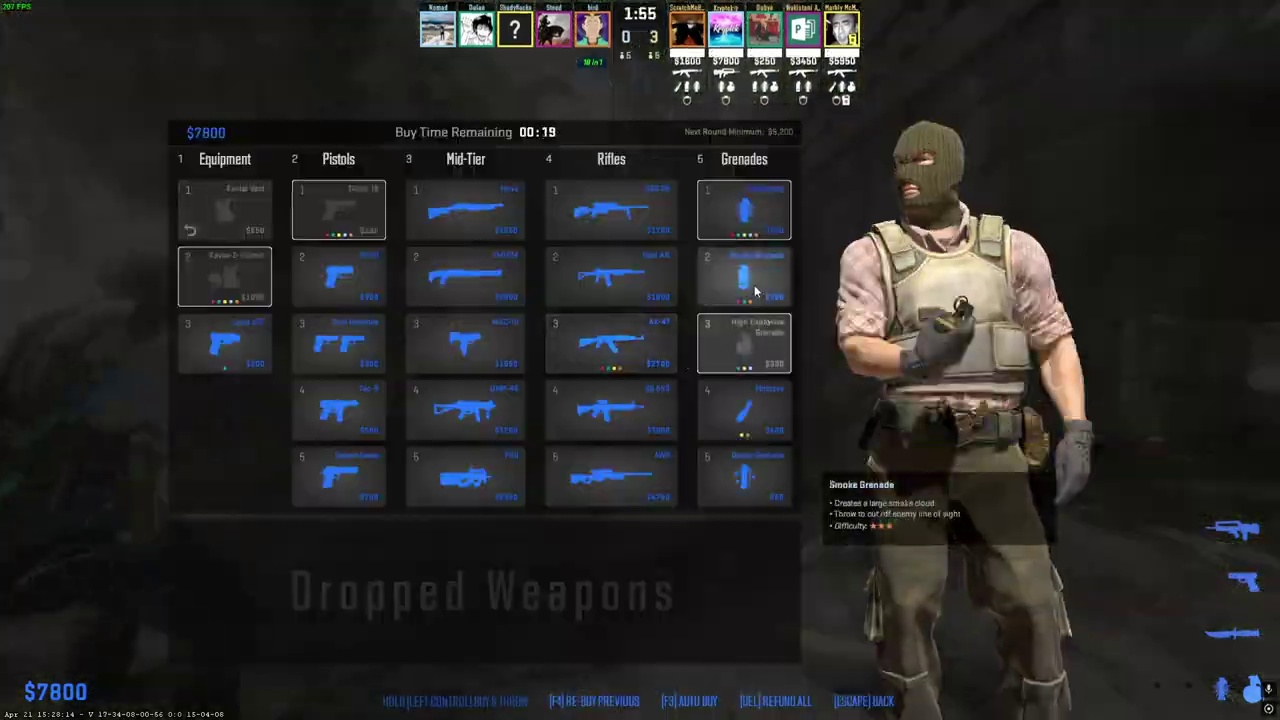Terrorist: (844, 120, 1080, 720)
